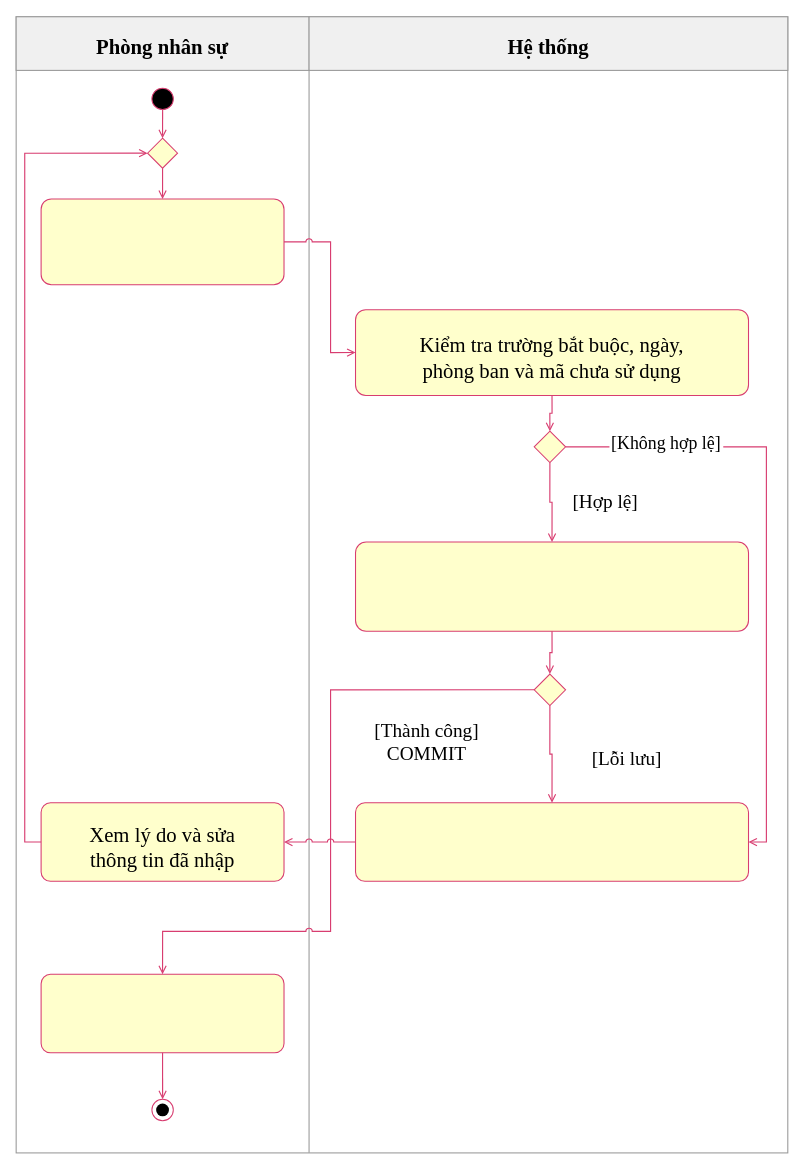
This 804x1170 diagram has some shape labels left out. Here are the shapes that lost their labels. From the top down, the centre of each, then its label:
point (162, 241): Nhập hồ sơ, phòng ban, thời gian, lương thử việc và điều khoản
point (552, 586): Bắt đầu giao dịch; thêm NhanVien và QuyetDinhTuyenDung
point (552, 841): Hoàn tác nếu đã bắt đầu giao dịch; giữ dữ liệu cũ và báo lỗi
point (162, 1013): Nhận kết quả thành công; nhân viên bắt đầu thử việc
